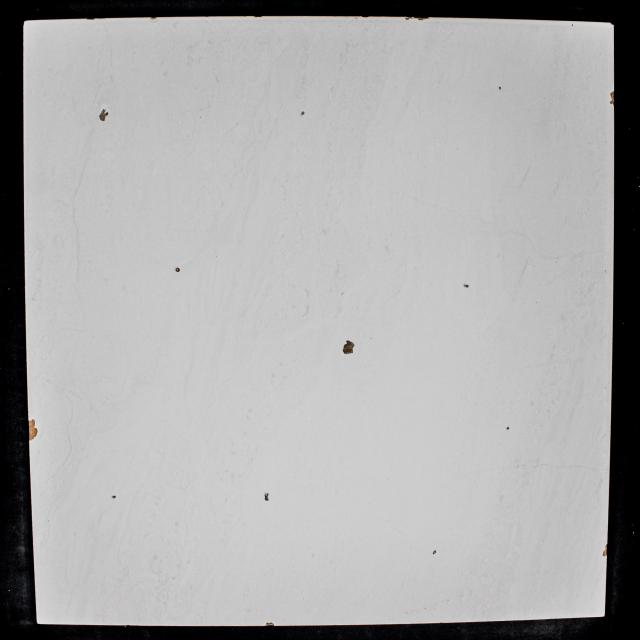edge-chipping: (28, 418, 38, 442), (417, 17, 430, 21), (602, 550, 608, 557), (610, 91, 615, 99), (265, 622, 275, 626), (404, 17, 417, 20), (610, 99, 614, 105), (150, 17, 157, 20), (86, 18, 95, 20), (605, 544, 608, 550), (254, 16, 262, 18), (361, 16, 369, 18), (610, 22, 614, 26), (572, 24, 573, 26)
hole: (342, 340, 356, 355), (98, 108, 109, 121), (264, 493, 269, 501), (463, 283, 469, 288), (175, 267, 180, 272), (432, 550, 437, 554), (301, 111, 305, 115), (112, 495, 116, 499), (506, 426, 509, 430), (499, 86, 501, 90)
